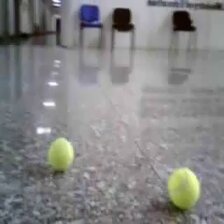tennis: (168, 167, 199, 207), (49, 138, 72, 170)
